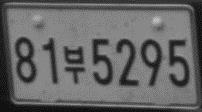1: (41, 36, 58, 84)
2: (115, 37, 139, 86)
5: (167, 38, 190, 87), (91, 38, 113, 85)
8: (13, 36, 36, 82)
9: (140, 38, 162, 86)
부: (62, 45, 86, 84)
